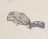microplastic: (7, 11, 46, 30)
